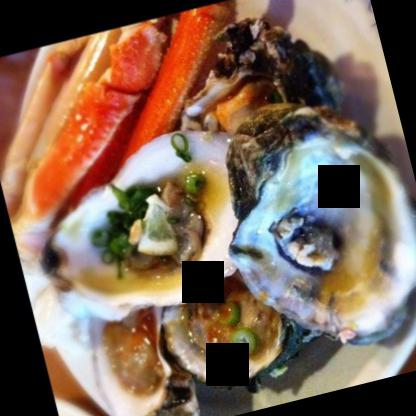oyster: (106, 28, 402, 395), (201, 87, 415, 367), (20, 114, 270, 327), (84, 294, 195, 415)
